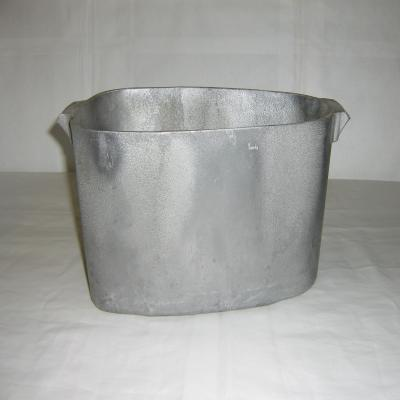technique: (55, 87, 349, 318)
